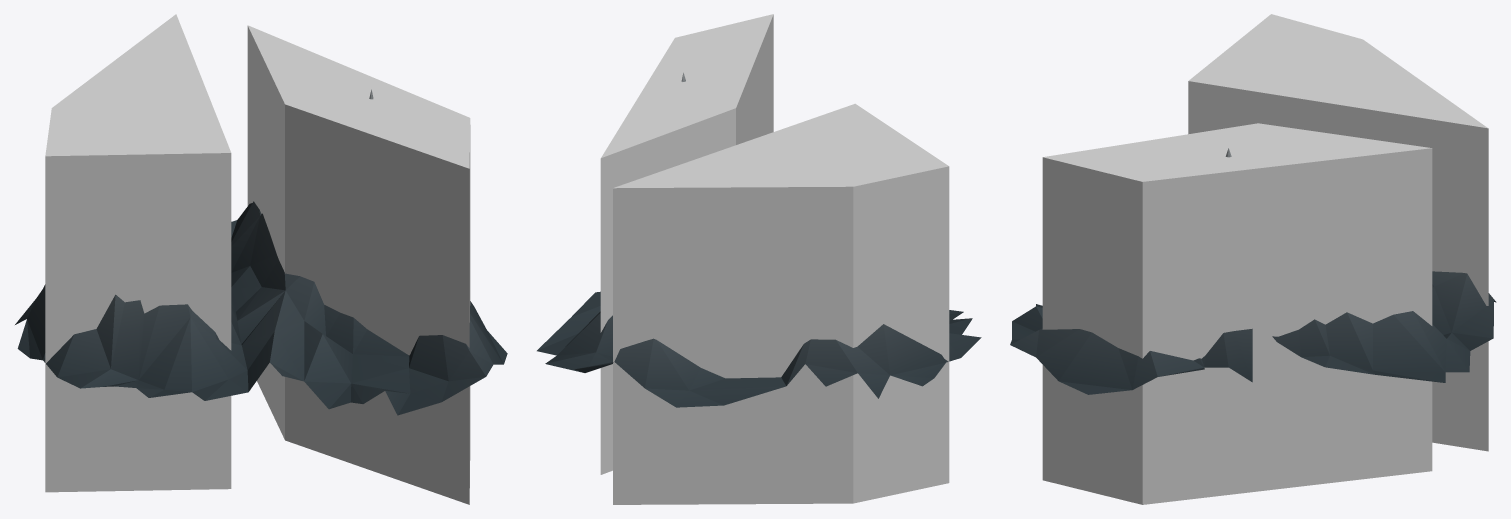
The model's file is island_small_rock_Collection_3.fbx.
3 renders of one model, left to right at view 1: azimuth 30°, elevation 25°; view 2: azimuth 150°, elevation 25°; view 3: azimuth 270°, elevation 25°, orthographic. The views are drawn at different scales.
Visible parts, largest first — view 1: islandRock_3_col, islandRock_3; view 2: islandRock_3_col, islandRock_3; view 3: islandRock_3_col, islandRock_3.
Boxes of the visible parts, x1=… form: islandRock_3_col: x1=45, y1=14, x2=470, y2=504; islandRock_3: x1=15, y1=89, x2=507, y2=415; islandRock_3_col: x1=600, y1=14, x2=949, y2=504; islandRock_3: x1=537, y1=72, x2=981, y2=407; islandRock_3_col: x1=1042, y1=14, x2=1488, y2=504; islandRock_3: x1=1010, y1=148, x2=1496, y2=394.
Bounding box in the file's own units: 2353 × 2100 × 2789.
